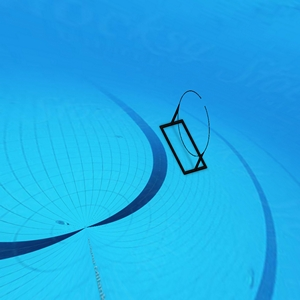circle: (160, 88, 217, 181)
